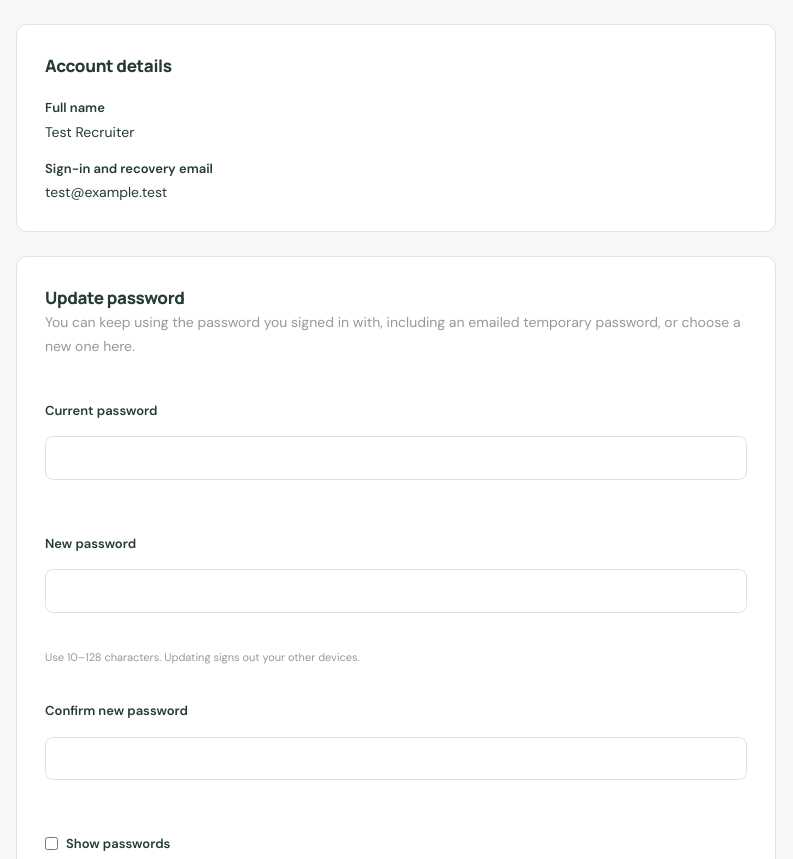
Test case: shows incorrect-current-password errors
Type "Emailed-test-password" into the password field labelled "Current password".
click(396, 458); type("Emailed-test-password")  # box [45, 436, 747, 480]
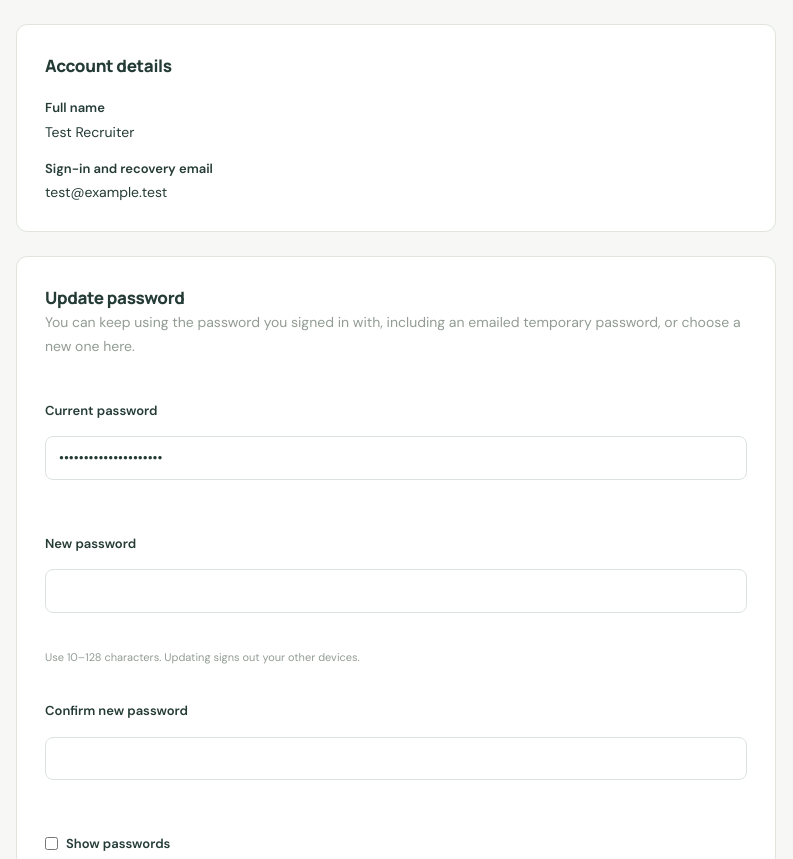
Type "New-test-password-2026" into the password field labelled "New password".
click(396, 591); type("New-test-password-2026")  # box [45, 569, 747, 612]
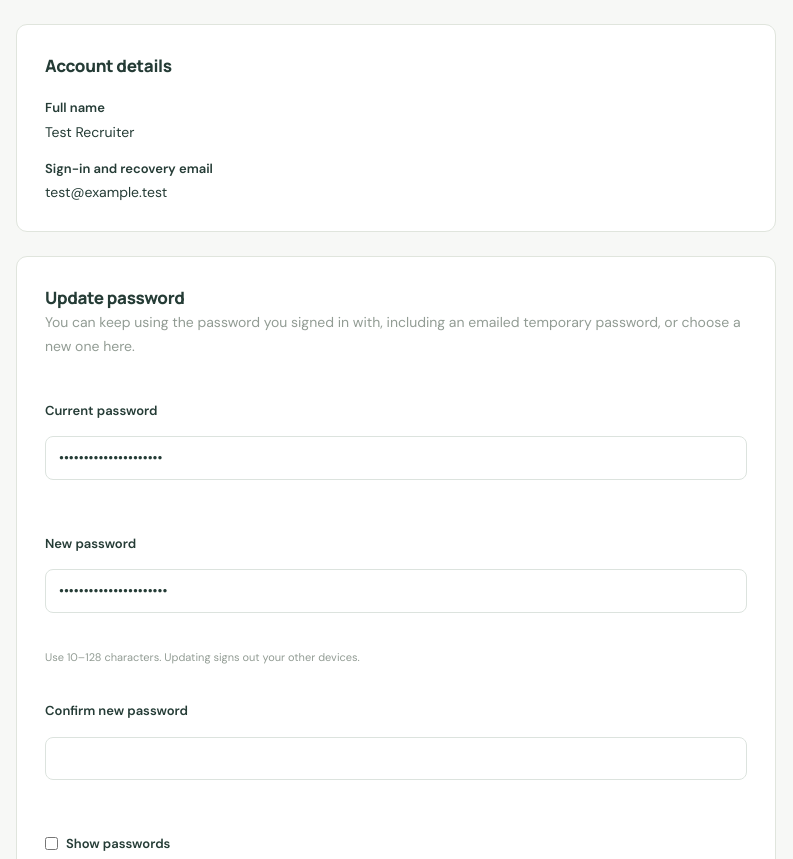
Type "New-test-password-2026" into the password field labelled "Confirm new password".
click(396, 758); type("New-test-password-2026")  # box [45, 736, 747, 780]
(page scrolled)
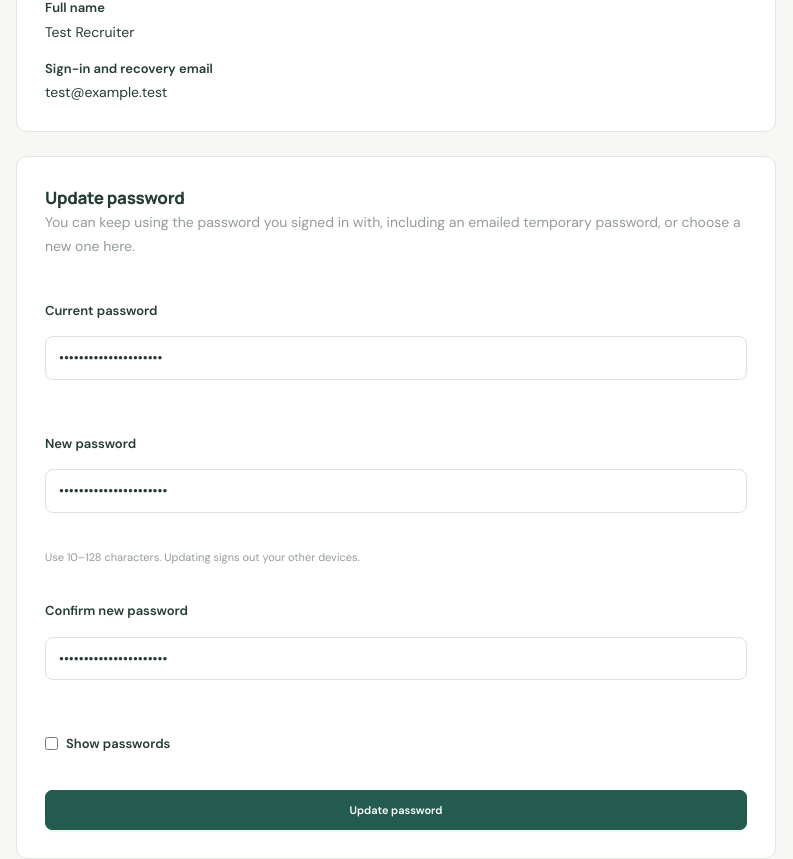
Click the button "Update password".
click(396, 810)  # box [45, 790, 747, 830]
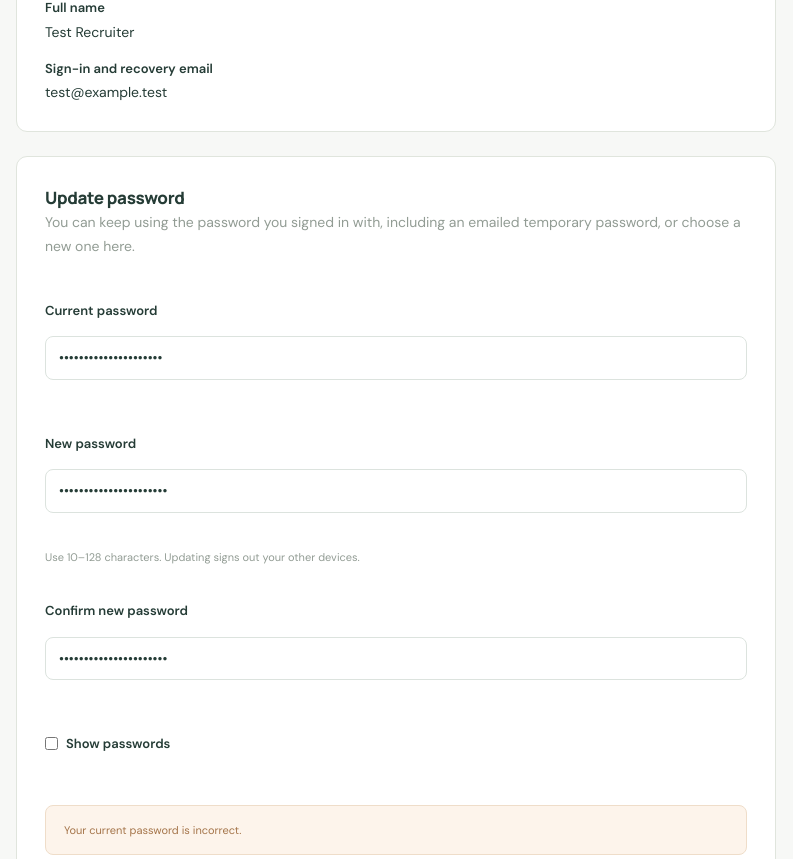
Result: the message shows "current password is incorrect" at [64, 822, 241, 836]
